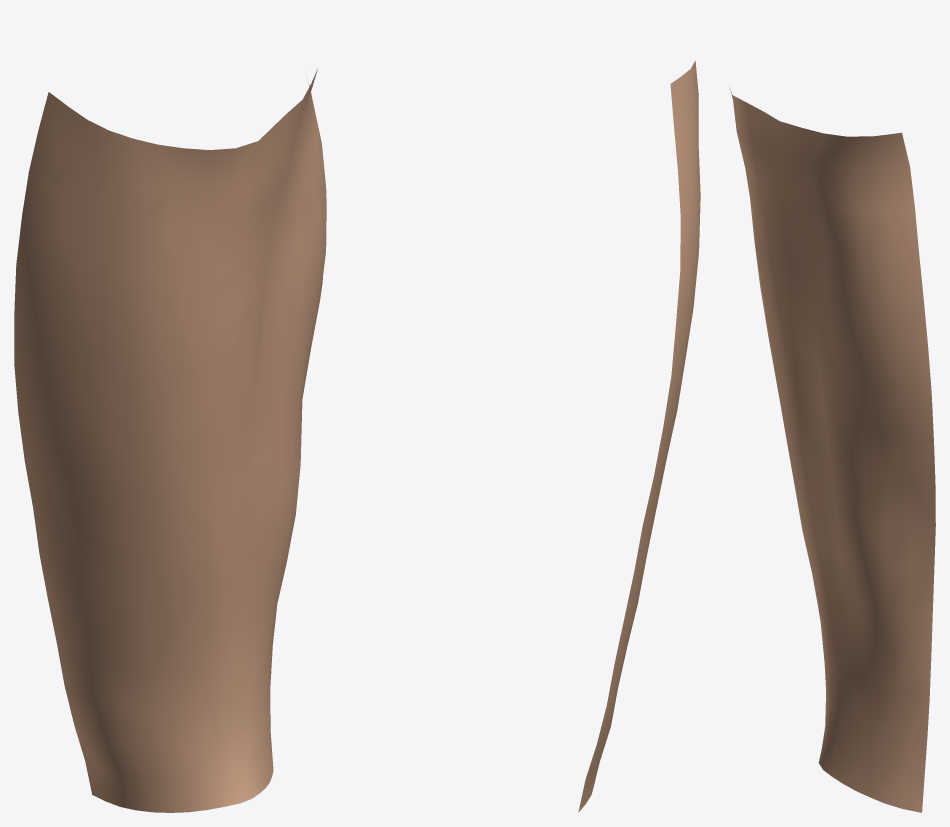
File: anterior-region-of-leg-r.glb
3 views of the same model, side by side, from view 1: azimuth 30°, elevation 25°; view 2: azimuth 150°, elevation 25°; view 3: azimuth 270°, elevation 25° (orthographic). The views are drawn at different scales.
Parts seen in each view (by area): view 1: Anterior region of leg.r; view 2: Anterior region of leg.r; view 3: Anterior region of leg.r.
Part boxes in pixels (x1,y1,x2,y2): Anterior region of leg.r: [14, 68, 326, 812]; Anterior region of leg.r: [578, 60, 700, 812]; Anterior region of leg.r: [729, 86, 935, 812].
Size of the model in its own units: 0.1182 by 0.2688 by 0.0725.
